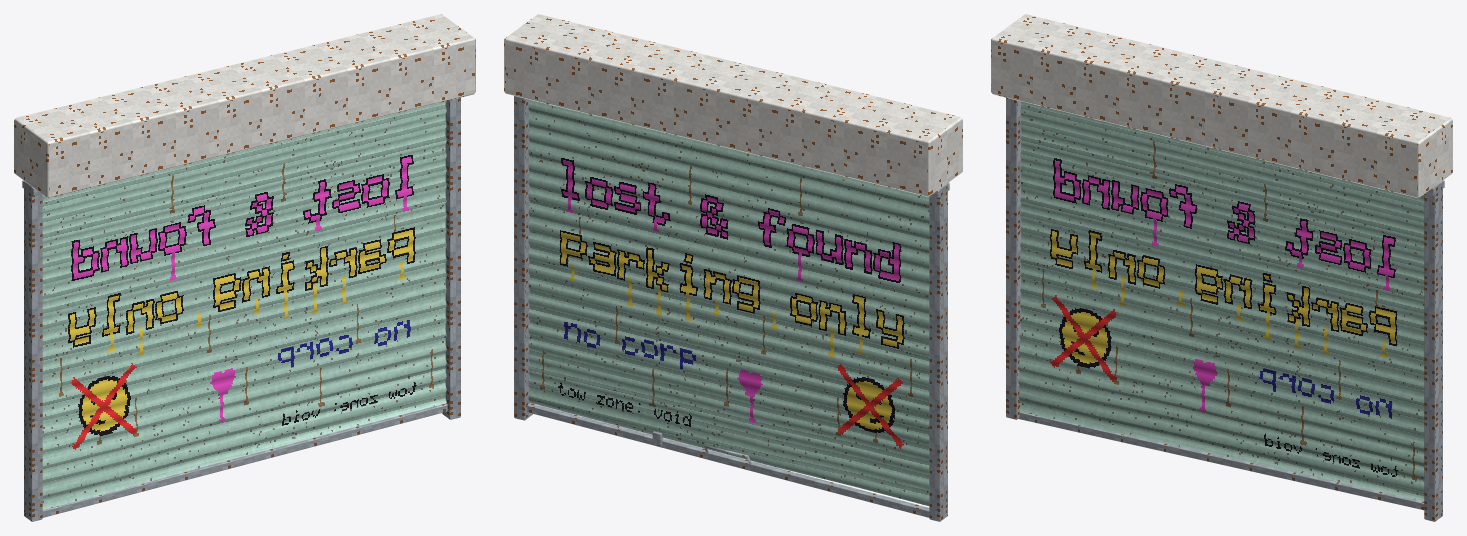
File: s_garagedoor.glb
3 views of the same model, side by side, from view 1: azimuth 30°, elevation 25°; view 2: azimuth 150°, elevation 25°; view 3: azimuth 330°, elevation 25° (orthographic).
Visible parts, largest first — view 1: s_garagedoor_mesh; view 2: s_garagedoor_mesh; view 3: s_garagedoor_mesh.
Part boxes in pixels (box(x1,y1,x2,y2)): s_garagedoor_mesh: box(14, 14, 475, 521); s_garagedoor_mesh: box(504, 14, 962, 521); s_garagedoor_mesh: box(991, 14, 1452, 521).
Size of what is drawn, in the model's own units: 3 by 2.62 by 0.42.
3 materials, 3 textured.
